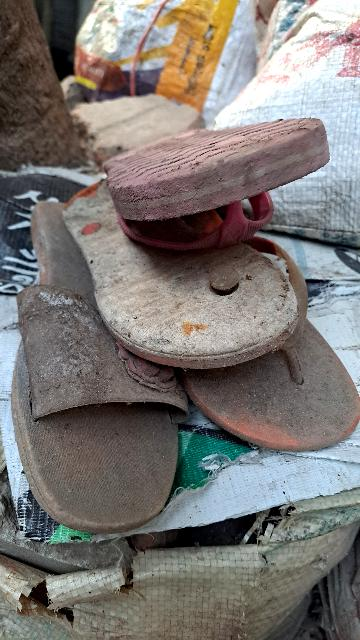sandal: (68, 108, 360, 493), (0, 159, 200, 551)
